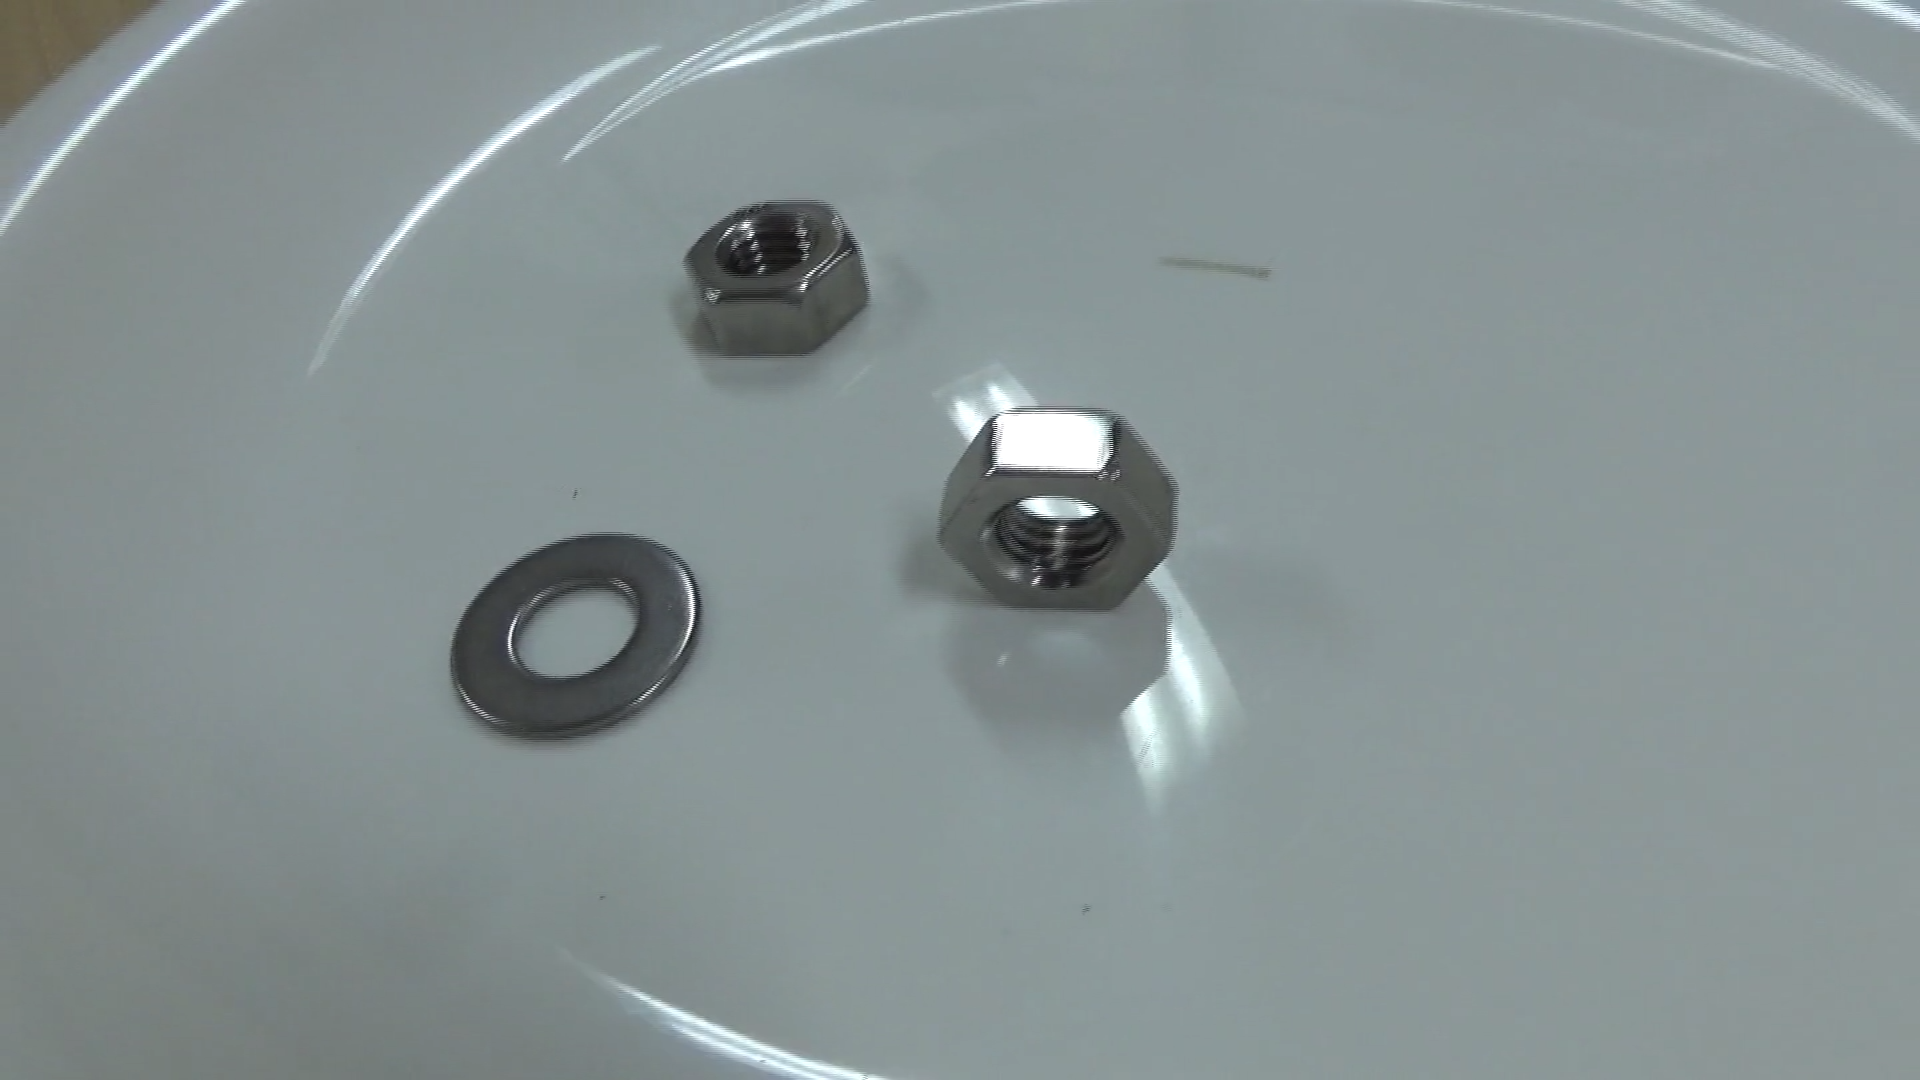nut: (935, 402, 1176, 615), (676, 198, 870, 361)
washer: (447, 526, 702, 738)
